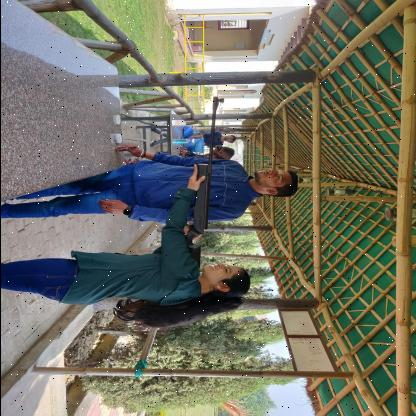rifle: (181, 96, 225, 270)
